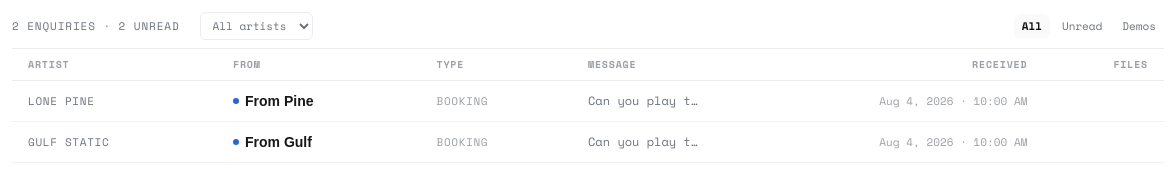
EnquiryTable — the artist selector › CRITICAL: narrows the table to one artist
Select "Gulf Static" in the dropdown named "Filter by artist" at (256, 26), box [200,12,312,40]
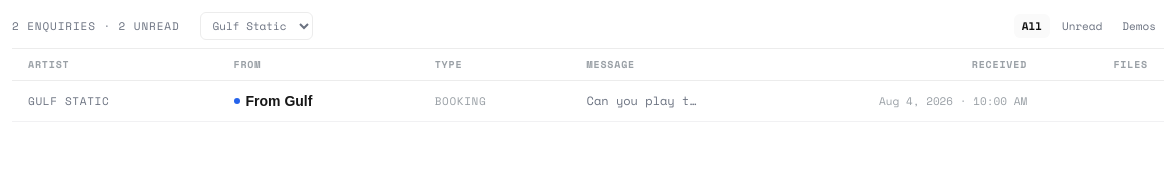
Expected: the text "From Gulf" is shown, [246,91,312,111]
Result: the text "From Pine" is gone
